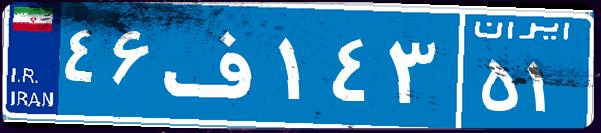1: (273, 28, 330, 110), (525, 38, 570, 115)
3: (385, 28, 445, 110)
4: (330, 28, 385, 110), (57, 26, 110, 107)
5: (475, 38, 525, 113)
6: (110, 28, 158, 105)
ف: (158, 15, 273, 115)
